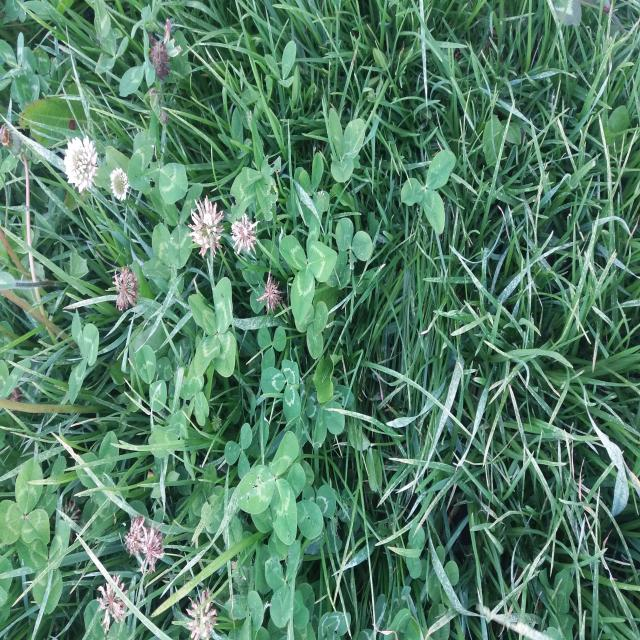Four Leaf Clover: (278, 200, 337, 323), (188, 277, 236, 377)
